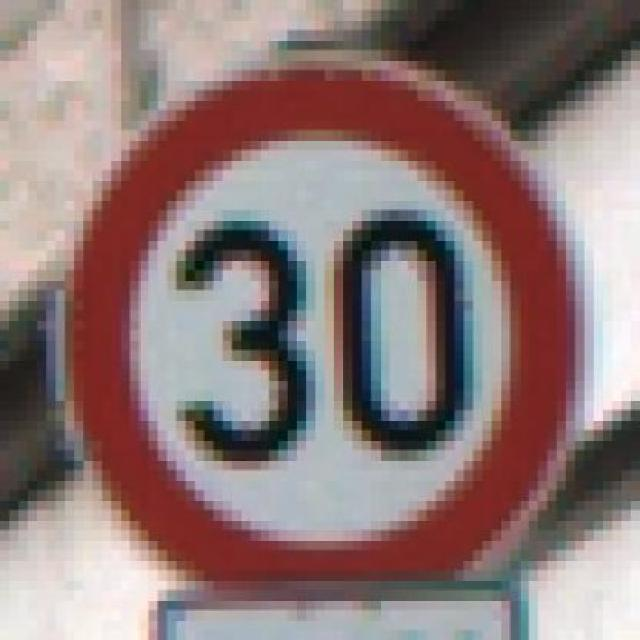Speed Limit 30 KMPh: (28, 29, 603, 620)
